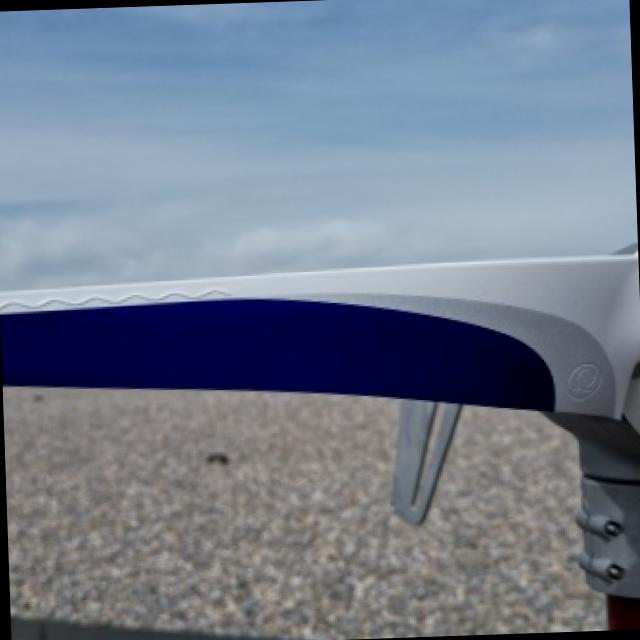healthy: (0, 251, 640, 628)
